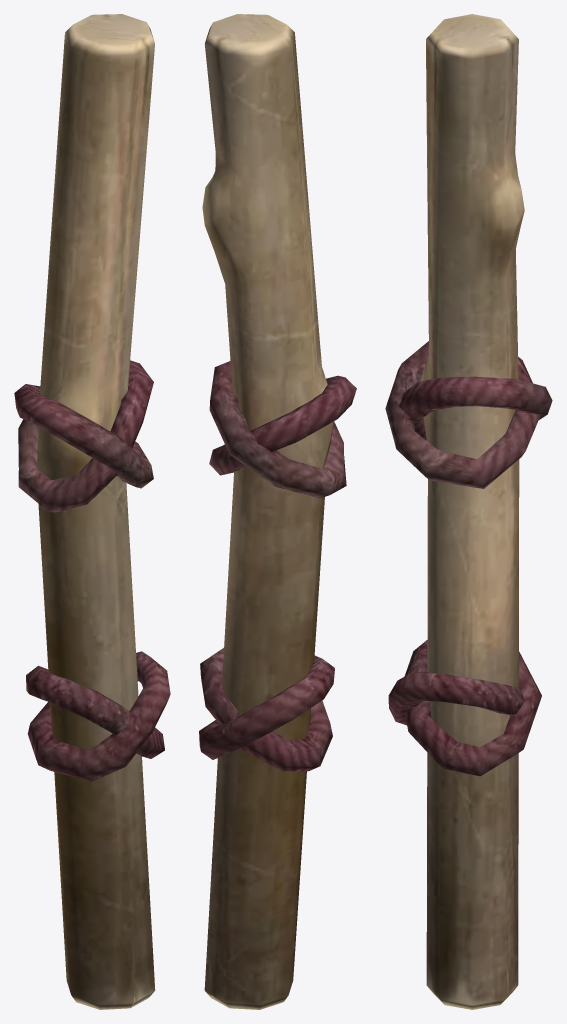
3 views of the same model, side by side, from view 1: azimuth 30°, elevation 25°; view 2: azimuth 150°, elevation 25°; view 3: azimuth 270°, elevation 25° (orthographic).
Visible parts, largest first — view 1: SM_Garou_Set_SM_SpikeRope_03_01_LOD0; view 2: SM_Garou_Set_SM_SpikeRope_03_01_LOD0; view 3: SM_Garou_Set_SM_SpikeRope_03_01_LOD0.
Boxes of the visible parts, x1,y1,x2,y2 form: SM_Garou_Set_SM_SpikeRope_03_01_LOD0: (14, 14, 170, 1009); SM_Garou_Set_SM_SpikeRope_03_01_LOD0: (199, 14, 356, 1009); SM_Garou_Set_SM_SpikeRope_03_01_LOD0: (385, 14, 552, 1009).
Size of the model in its own units: 0.1802 by 1.22 by 0.1913.
Materials: 1 (1 with a texture image).
